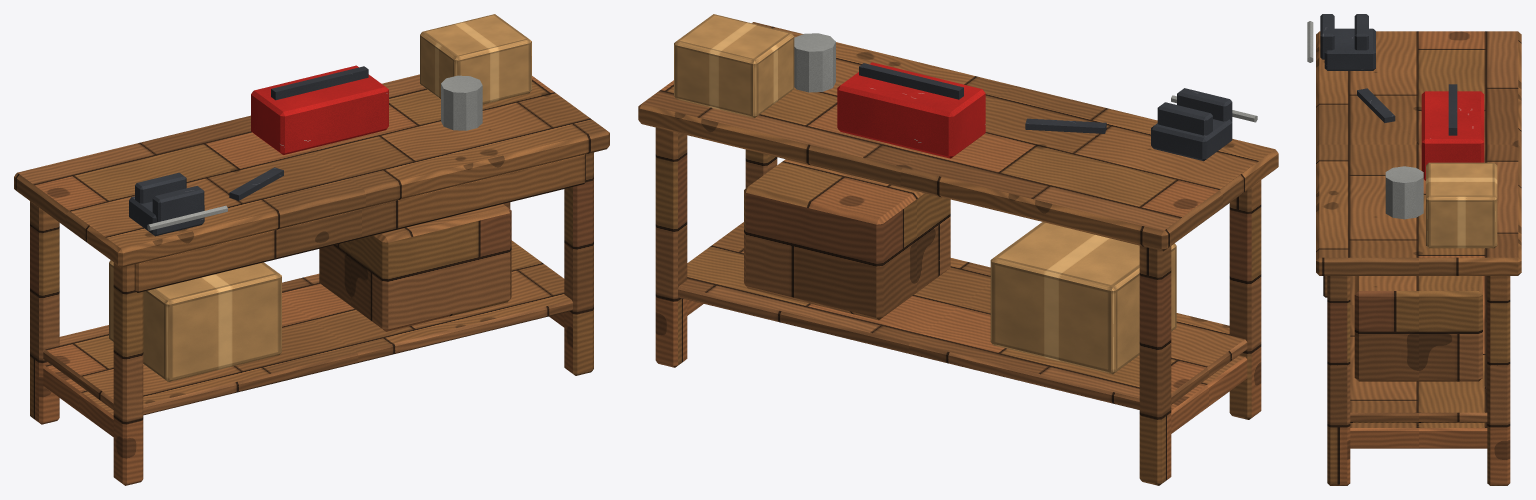
File: Prop_Workbench.fbx
3 renders of one model, left to right at view 1: azimuth 30°, elevation 25°; view 2: azimuth 150°, elevation 25°; view 3: azimuth 270°, elevation 25°, orthographic. The views are drawn at different scales.
Parts seen in each view (by area): view 1: Prop_Workbench; view 2: Prop_Workbench; view 3: Prop_Workbench.
Part boxes in pixels (x1=…): Prop_Workbench: x1=14, y1=14, x2=609, y2=485; Prop_Workbench: x1=638, y1=14, x2=1278, y2=485; Prop_Workbench: x1=1307, y1=14, x2=1521, y2=485.
Size of the model in its own units: 1.9 by 1.1 by 0.7504.
Materials: 5 (5 with a texture image).
